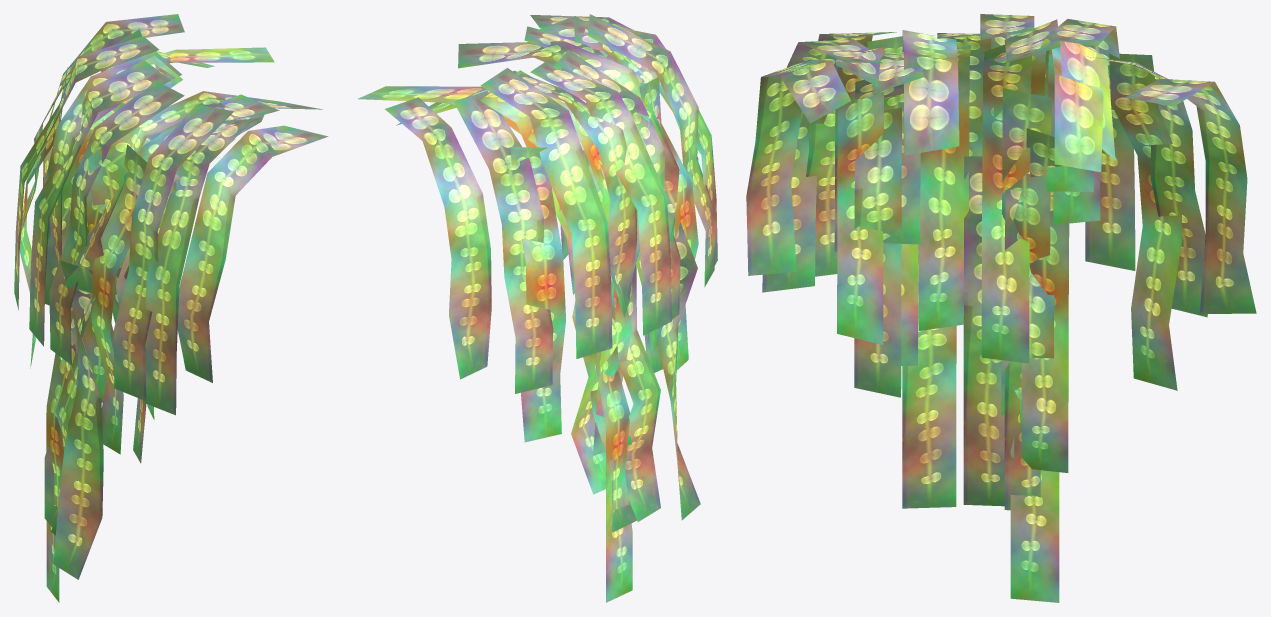
File: creeping_jenny_01_SM.fbx
The picture shows the model from 3 angles, left to right: view 1: azimuth 30°, elevation 25°; view 2: azimuth 150°, elevation 25°; view 3: azimuth 270°, elevation 25°; orthographic projection. The views are drawn at different scales.
Visible parts, largest first — view 1: creeping_jenny_01_SM_LOD0; view 2: creeping_jenny_01_SM_LOD0; view 3: creeping_jenny_01_SM_LOD0.
Boxes of the visible parts, <box> form: creeping_jenny_01_SM_LOD0: <box>14,14,328,602</box>; creeping_jenny_01_SM_LOD0: <box>358,14,717,602</box>; creeping_jenny_01_SM_LOD0: <box>746,14,1256,602</box>.
Bounding box in the file's own units: 70.74 × 94.43 × 128.
1 material, 1 textured.
